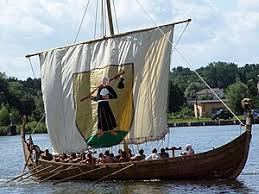boat: (20, 1, 252, 194)
